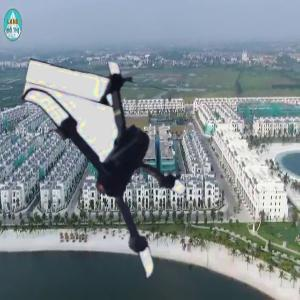drone: (9, 65, 221, 277)
